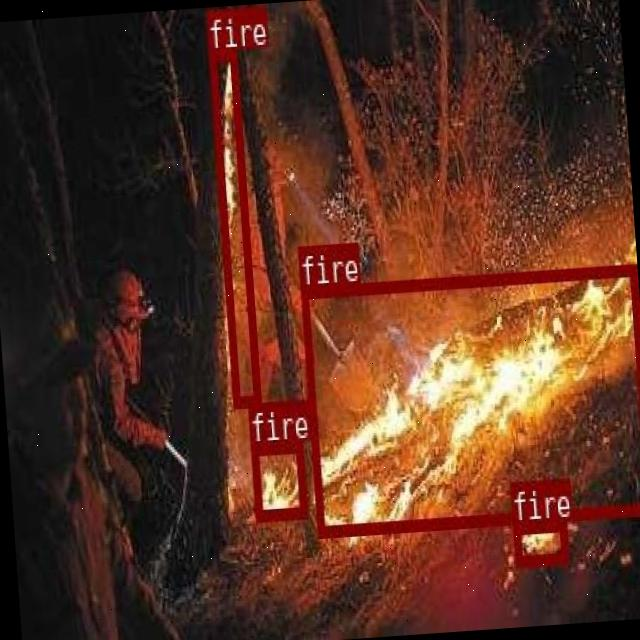fire: (299, 263, 640, 534), (208, 48, 260, 404), (250, 439, 304, 520), (512, 518, 566, 564)
